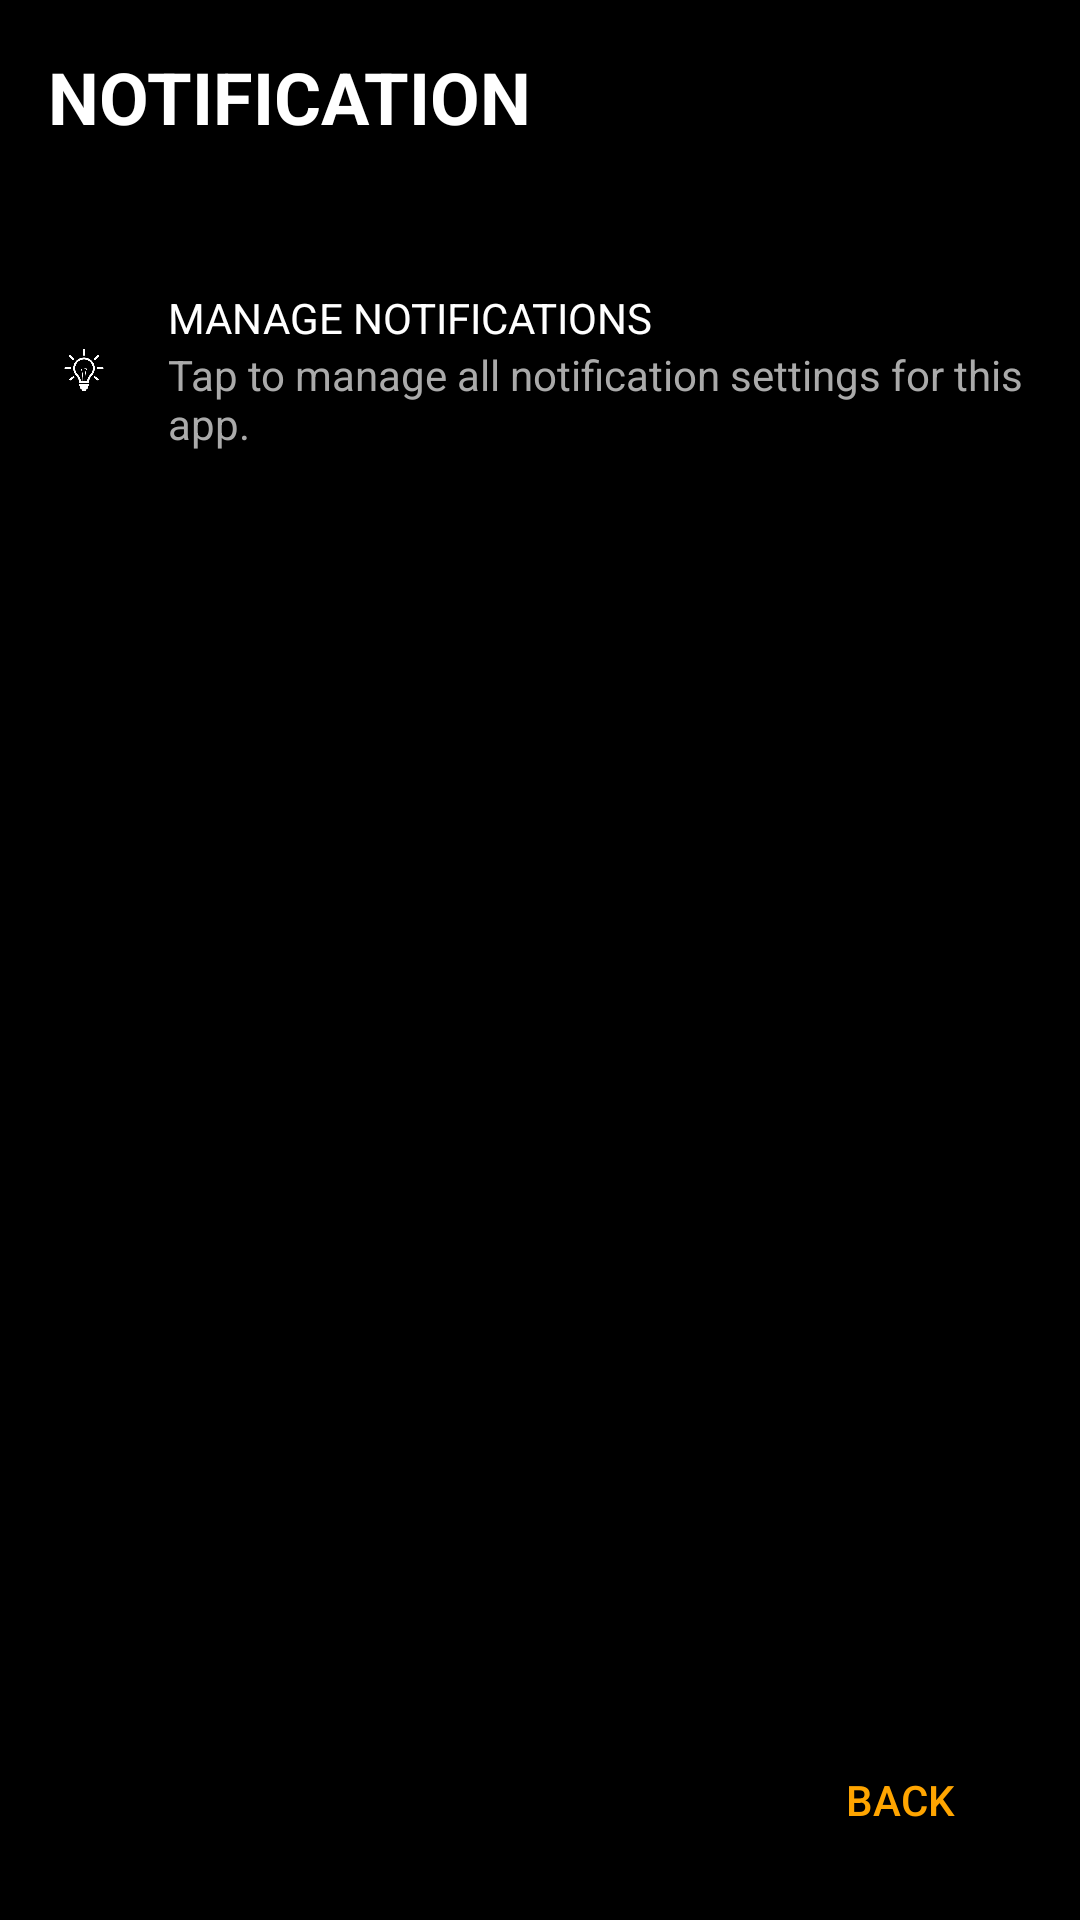

Icon click points for this 1080 x 1920 phone screenshot, format (x,y):
lightbulb: (84,370)
